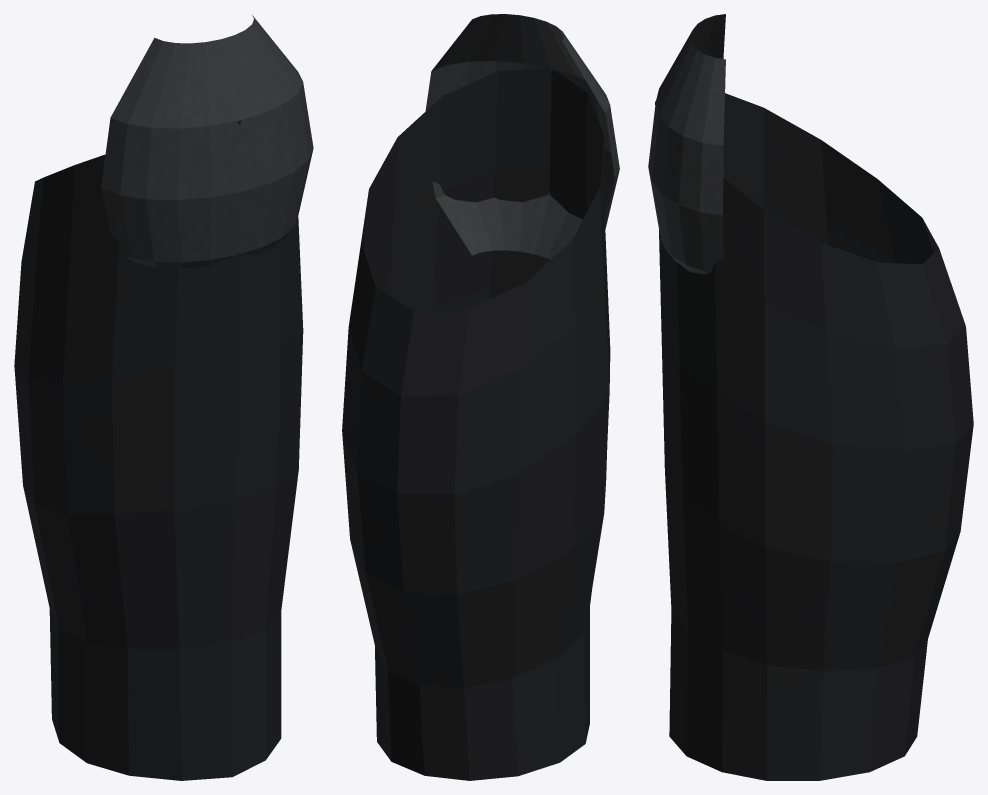
File: eq_present_3_leg.glb
3 views of the same model, side by side, from view 1: azimuth 30°, elevation 25°; view 2: azimuth 150°, elevation 25°; view 3: azimuth 270°, elevation 25° (orthographic). The views are drawn at different scales.
Visible parts, largest first — view 1: eq_present_3_leg; view 2: eq_present_3_leg; view 3: eq_present_3_leg.
Boxes of the visible parts, bbox=[...] form: eq_present_3_leg: bbox=[14, 15, 313, 780]; eq_present_3_leg: bbox=[342, 14, 619, 780]; eq_present_3_leg: bbox=[648, 14, 973, 780].
Bounding box in the file's own units: 0.1598 × 0.4644 × 0.1958.
Materials: 2 (2 with a texture image).
